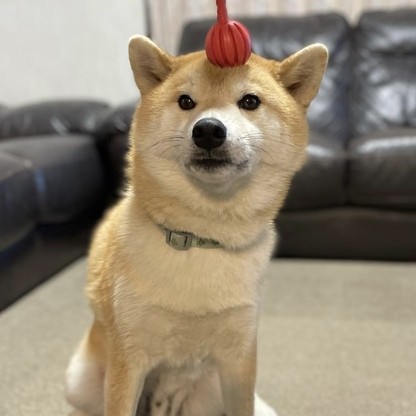shiba: (50, 26, 346, 416)
